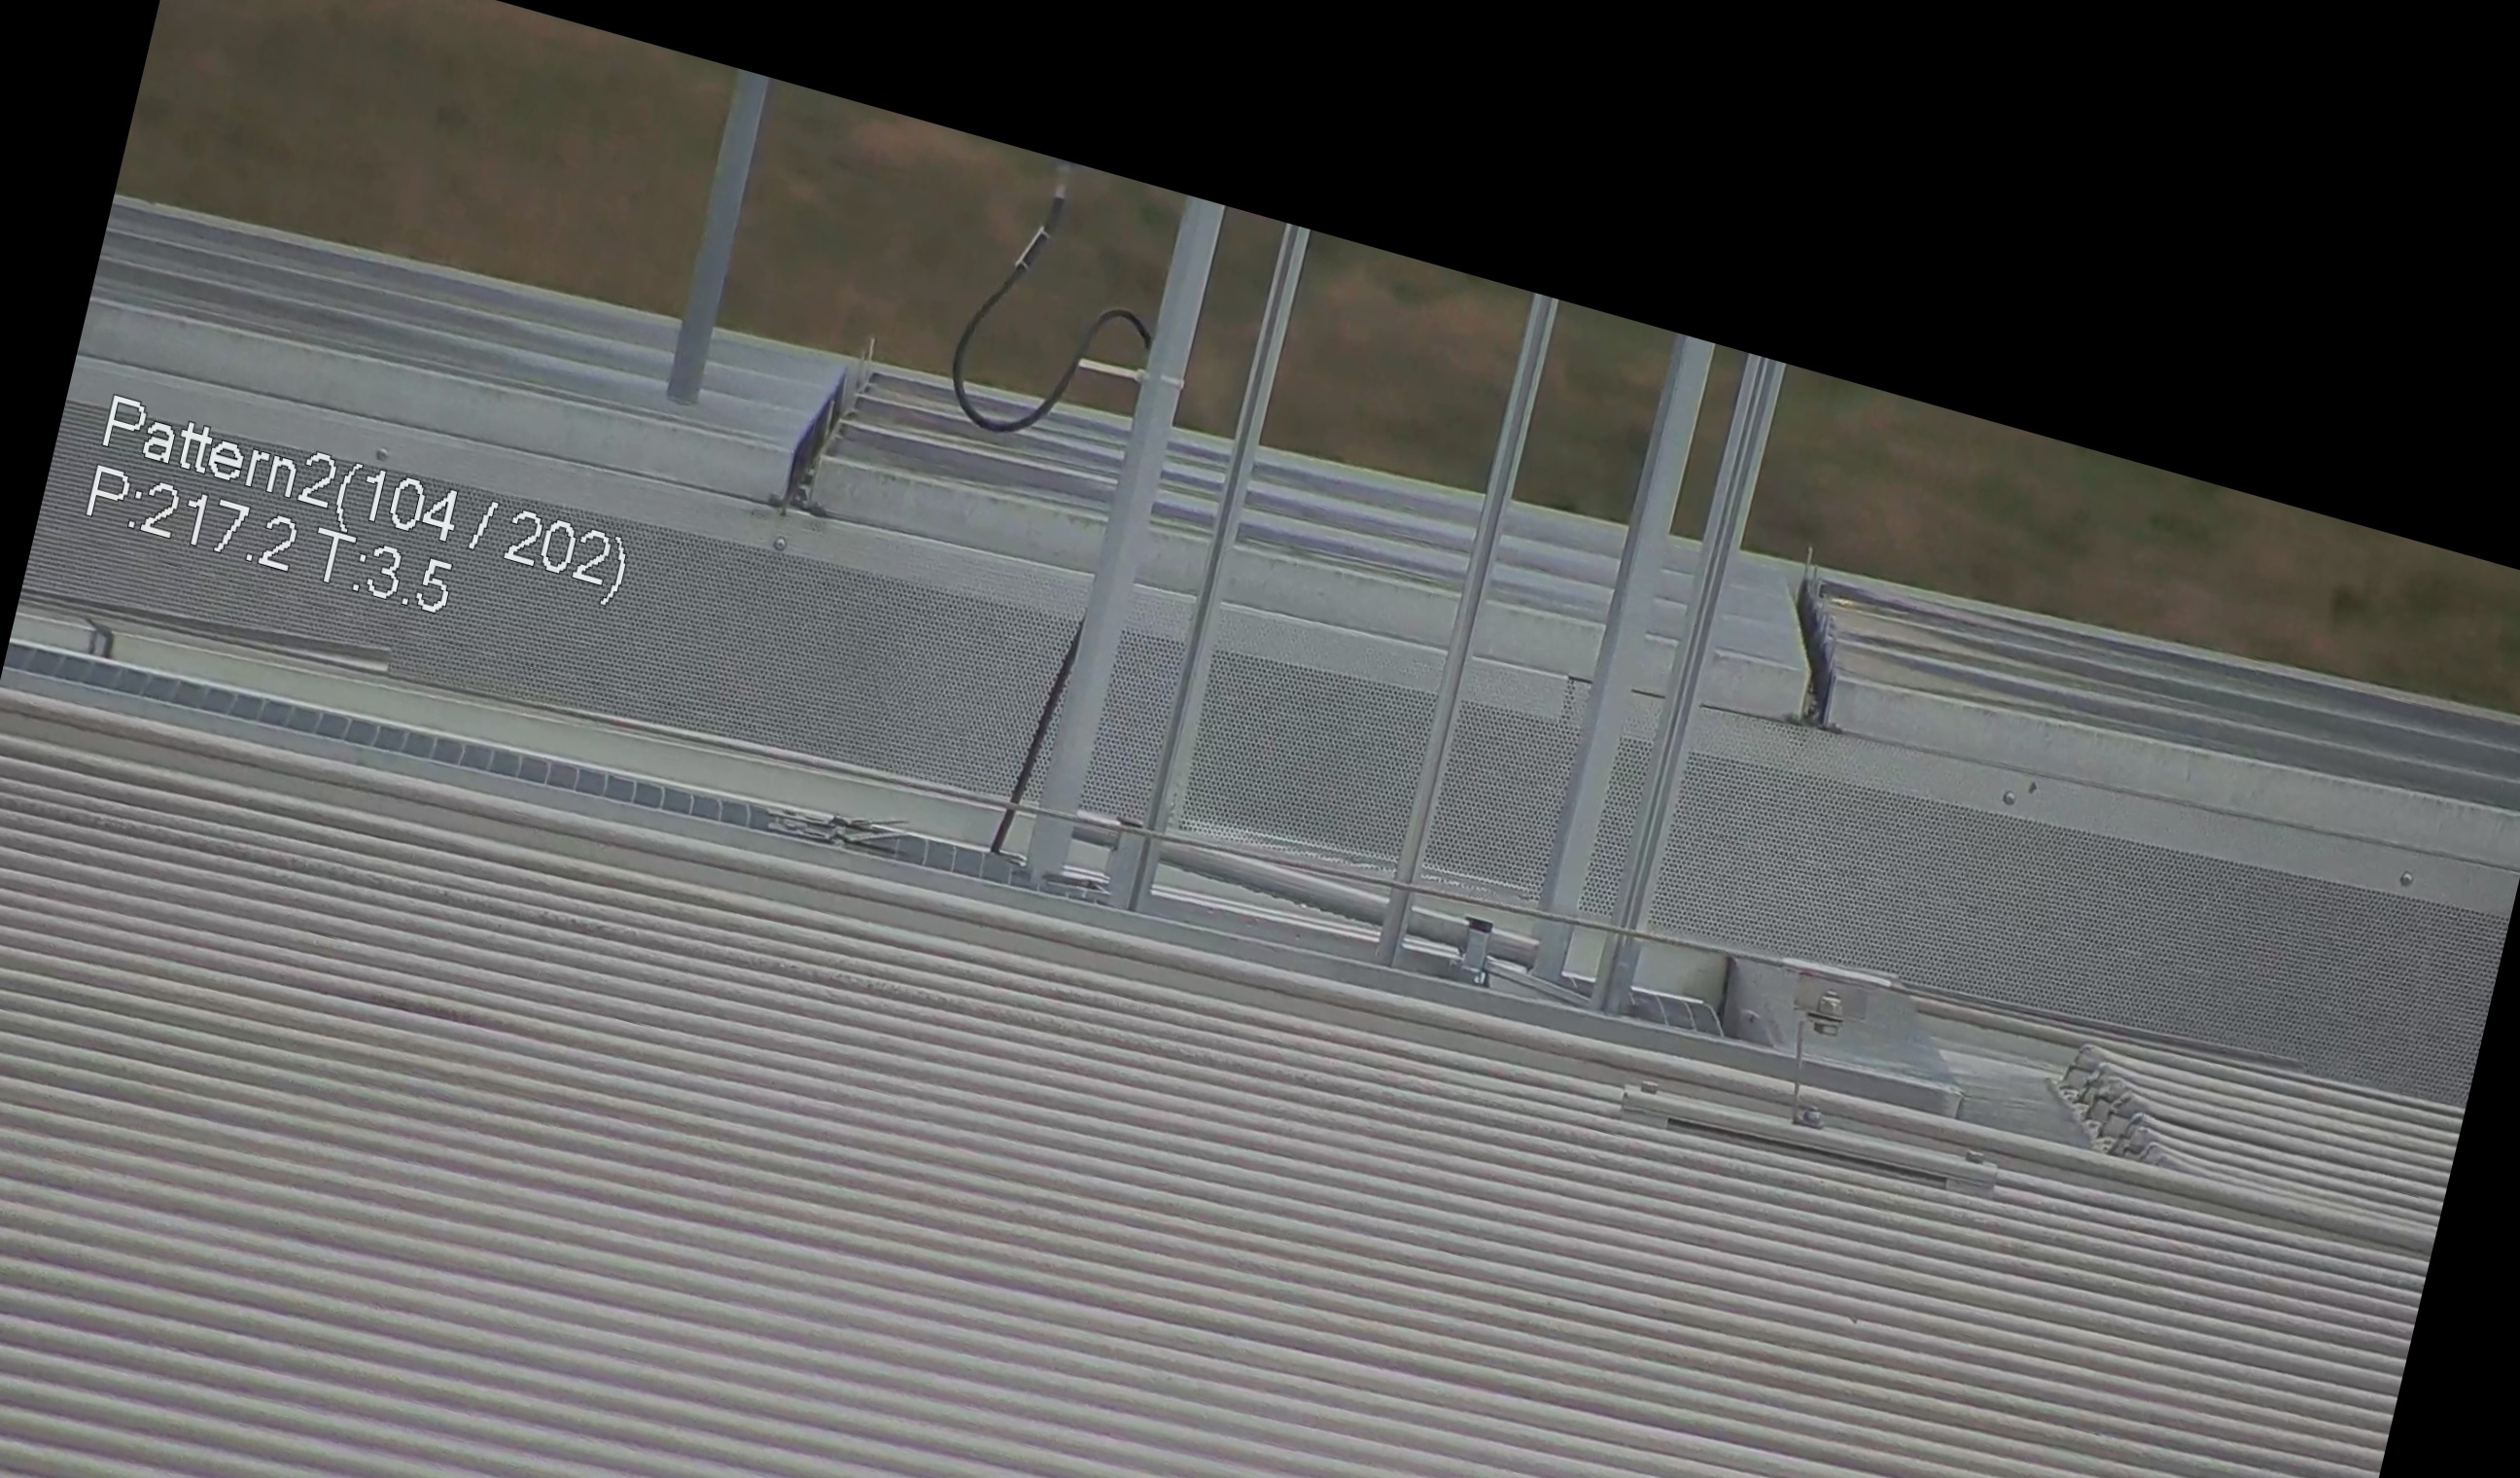Other: (1755, 538, 1896, 751)
